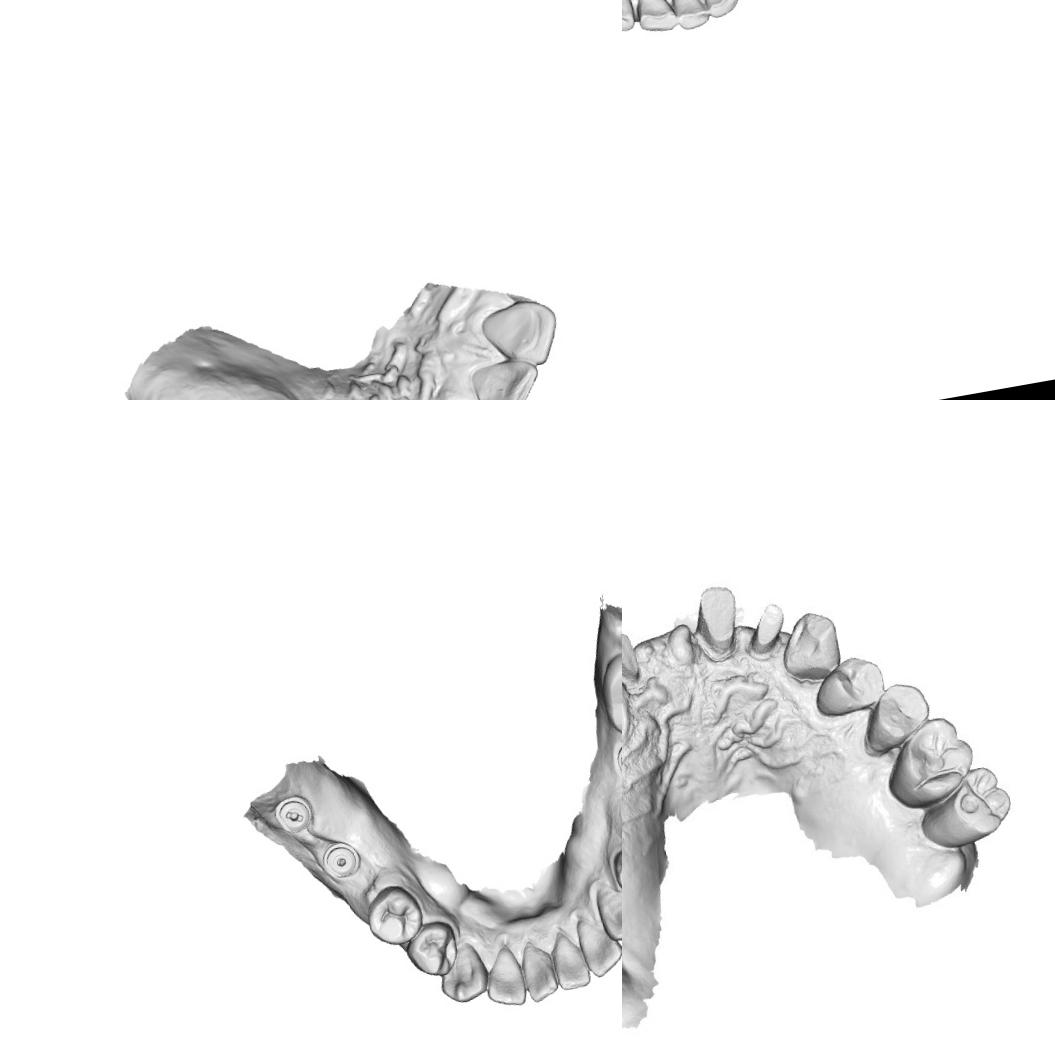canine: (774, 606, 845, 687), (432, 937, 491, 1006), (591, 874, 622, 943)
crown: (684, 581, 746, 665), (738, 599, 790, 661), (622, 627, 646, 691)
implant: (318, 836, 364, 881)
implant_minus: (270, 790, 317, 837), (612, 735, 622, 784)
incisor: (476, 293, 564, 375), (477, 941, 528, 1010), (467, 355, 545, 400), (572, 911, 622, 981), (545, 925, 593, 992), (515, 936, 561, 1005), (628, 0, 681, 35), (665, 0, 713, 32), (691, 0, 742, 20)
molar: (877, 710, 980, 814), (912, 762, 1016, 854), (593, 642, 622, 743)
premolar: (852, 678, 936, 759), (808, 652, 888, 720), (360, 880, 427, 950), (400, 916, 463, 982), (608, 838, 622, 905)
